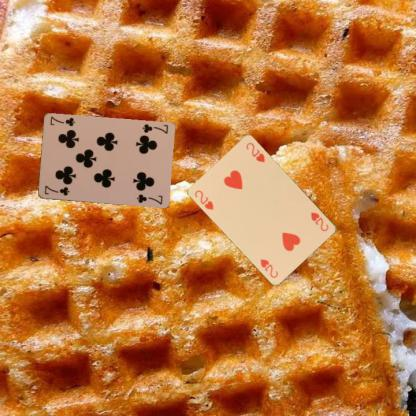2h: (192, 187, 215, 211), (308, 210, 330, 233)
7c: (139, 122, 169, 136), (42, 183, 70, 197)
